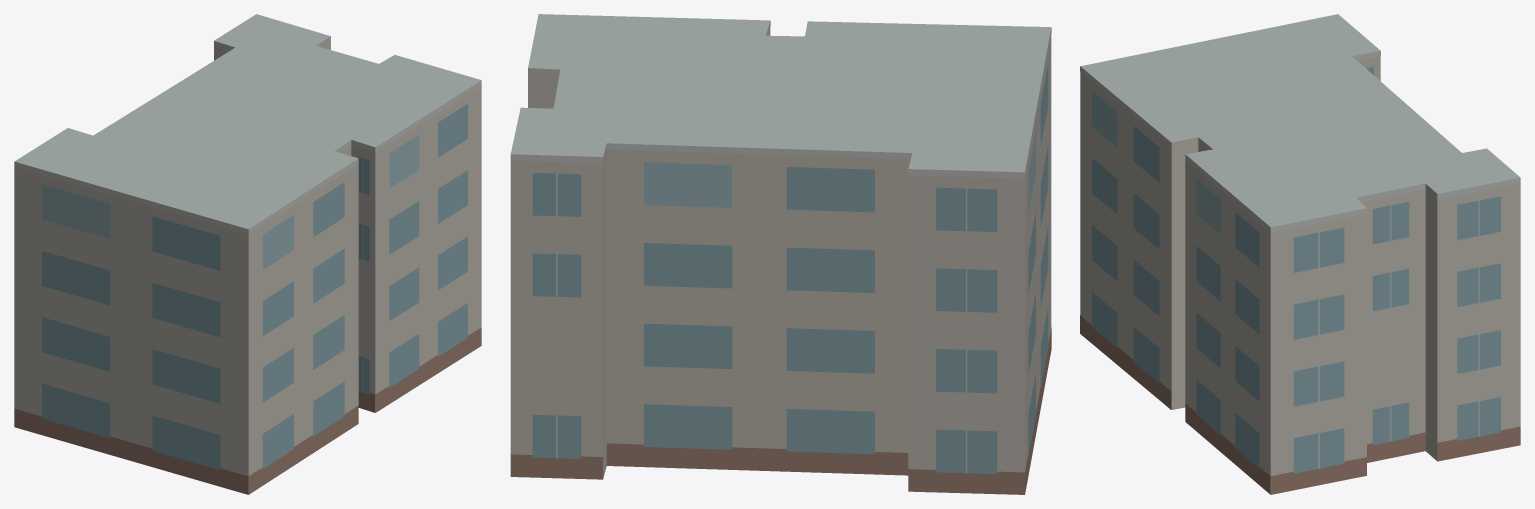
File: survey-upis-32799922.glb
The picture shows the model from 3 angles, left to right: view 1: azimuth 30°, elevation 25°; view 2: azimuth 150°, elevation 25°; view 3: azimuth 270°, elevation 25°; orthographic projection. The views are drawn at different scales.
Parts seen in each view (by area): view 1: survey-upis-32799922.tmp; view 2: survey-upis-32799922.tmp; view 3: survey-upis-32799922.tmp.
Part boxes in pixels (box(x1,y1,x2,y2)): survey-upis-32799922.tmp: box(14, 14, 481, 494); survey-upis-32799922.tmp: box(510, 14, 1051, 494); survey-upis-32799922.tmp: box(1080, 14, 1520, 494).
Bounding box in the file's own units: 21.04 × 12.3 × 18.36.
